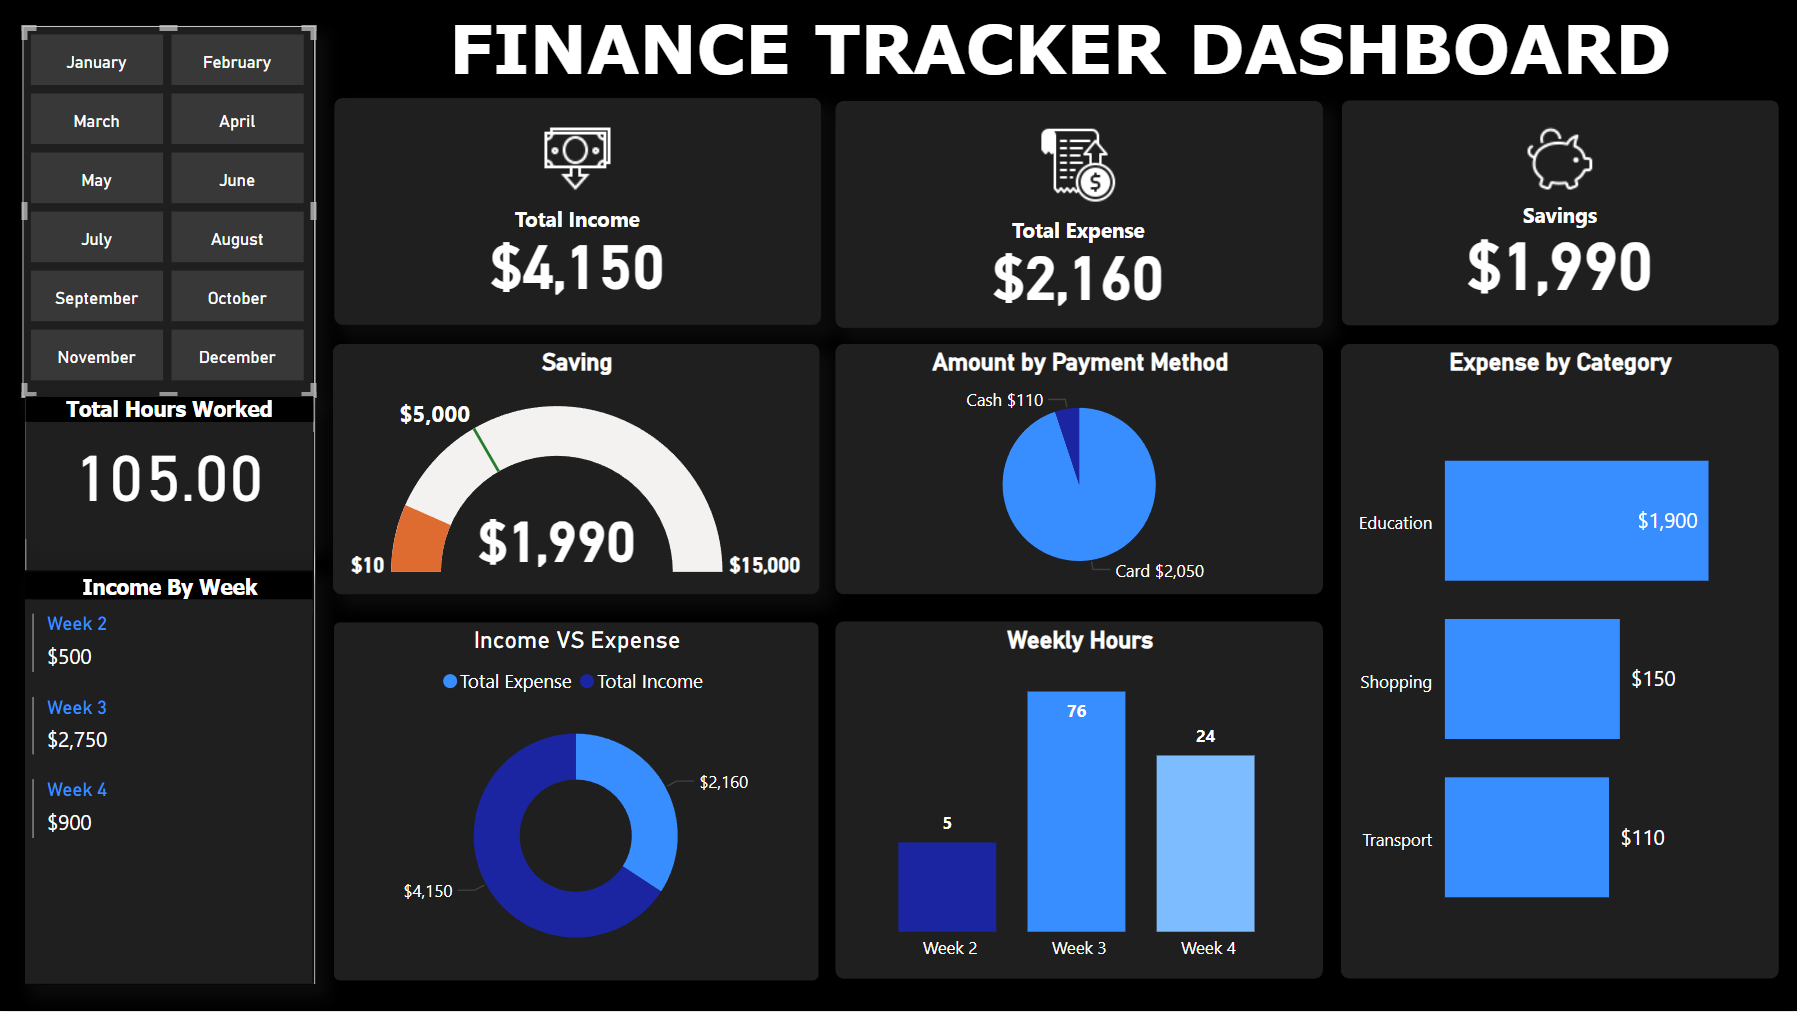

Layout of this report page (visuals, bound fields, positions):
{"tool":"powerbi","page":{"name":"Page 1","canvas":[1280,720],"ordinal":0},"visuals":[{"type":"cardVisual","title":"Expense","fields":{"Data":["public expense_data.Savings"]},"box":[947.5,71.2,325,161.2],"z":0},{"type":"cardVisual","title":"Savings","fields":{"Data":["public expense_data.Total Income"]},"box":[237.5,70,346.2,161.2],"z":1000},{"type":"clusteredColumnChart","title":"Income vs Expense by Month","fields":{"Category":["DateTable.MonthoftheYear"],"Y":["public expense_data.Total Income","public expense_data.TotalExpense"]},"box":[608.9,440.4,663.1,264.7],"z":2000},{"type":"shape","box":[16,18.5,205.8,681.5],"z":3000},{"type":"clusteredBarChart","title":"Expense by Category","fields":{"Category":["public expense_data.category"],"Y":["Sum(public expense_data.amount)"]},"box":[235.9,440.4,357.4,264.7],"z":4000},{"type":"advancedSlicerVisual","title":"Month Name","fields":{"Values":["DateTable.MonthName"]},"box":[16.2,18.8,207.5,263.8],"z":5000},{"type":"gauge","title":"Saving","fields":{"Y":["public expense_data.Savings"]},"box":[237.1,249.1,346.6,178.1],"z":6000},{"type":"pieChart","title":"Amount by Payment Method","fields":{"Y":["Sum(public expense_data.amount)"],"Category":["public expense_data.payment_method"]},"box":[608.9,249.1,324.9,178.1],"z":7000},{"type":"cardVisual","title":"Total Hours Worked","fields":{"Data":["Sum(public income_data.hours_worked)"]},"box":[18.8,302.5,205,101.2],"z":8000},{"type":"clusteredColumnChart","title":"Weekly Hours","fields":{"Category":["DateTable.WeekOfMonthLabel"],"Y":["Sum(public income_data.hours_worked)"]},"box":[947.1,249.1,324.9,179.3],"z":9000},{"type":"textbox","box":[265,0,978.8,70],"z":10000},{"type":"multiRowCard","title":"Income By Week","fields":{"Values":["public income_data.WeeklyIncome","DateTable.WeekOfMonthLabel"]},"box":[16.2,423.8,205,275],"z":11000},{"type":"cardVisual","title":"Savings","fields":{"Data":["public expense_data.TotalExpense"]},"box":[593.9,72.1,346.7,161.3],"z":12000}]}

Visuals, with their boxes in screenshot pixels (x1, y1, x2, y2), scaled from the page's 1280x720 canvas onto the 1797x1012 screenshot:
"Expense" cardVisual: l=1330, t=100, r=1786, b=327
"Savings" cardVisual: l=333, t=98, r=819, b=325
"Income vs Expense by Month" clusteredColumnChart: l=855, t=619, r=1786, b=991
shape: l=22, t=26, r=311, b=984
"Expense by Category" clusteredBarChart: l=331, t=619, r=833, b=991
"Month Name" advancedSlicerVisual: l=23, t=26, r=314, b=397
"Saving" gauge: l=333, t=350, r=819, b=600
"Amount by Payment Method" pieChart: l=855, t=350, r=1311, b=600
"Total Hours Worked" cardVisual: l=26, t=425, r=314, b=567
"Weekly Hours" clusteredColumnChart: l=1330, t=350, r=1786, b=602
textbox: l=372, t=0, r=1746, b=98
"Income By Week" multiRowCard: l=23, t=596, r=311, b=982
"Savings" cardVisual: l=834, t=101, r=1321, b=328
